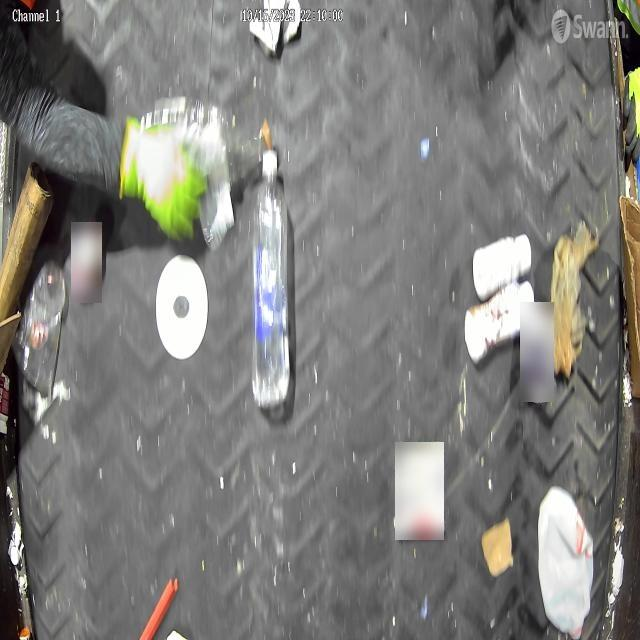milk_jug: (538, 486, 596, 632)
plastic_bottle: (251, 155, 297, 416)
